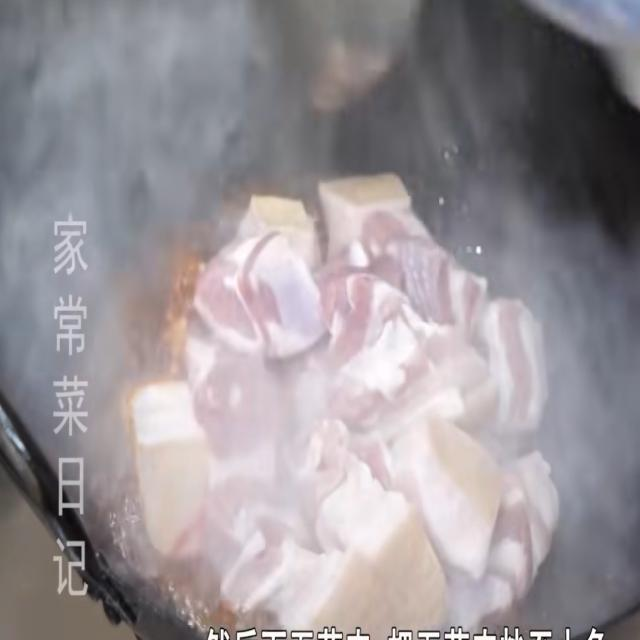pork: (435, 250, 543, 421), (333, 266, 422, 419), (197, 232, 324, 336)
